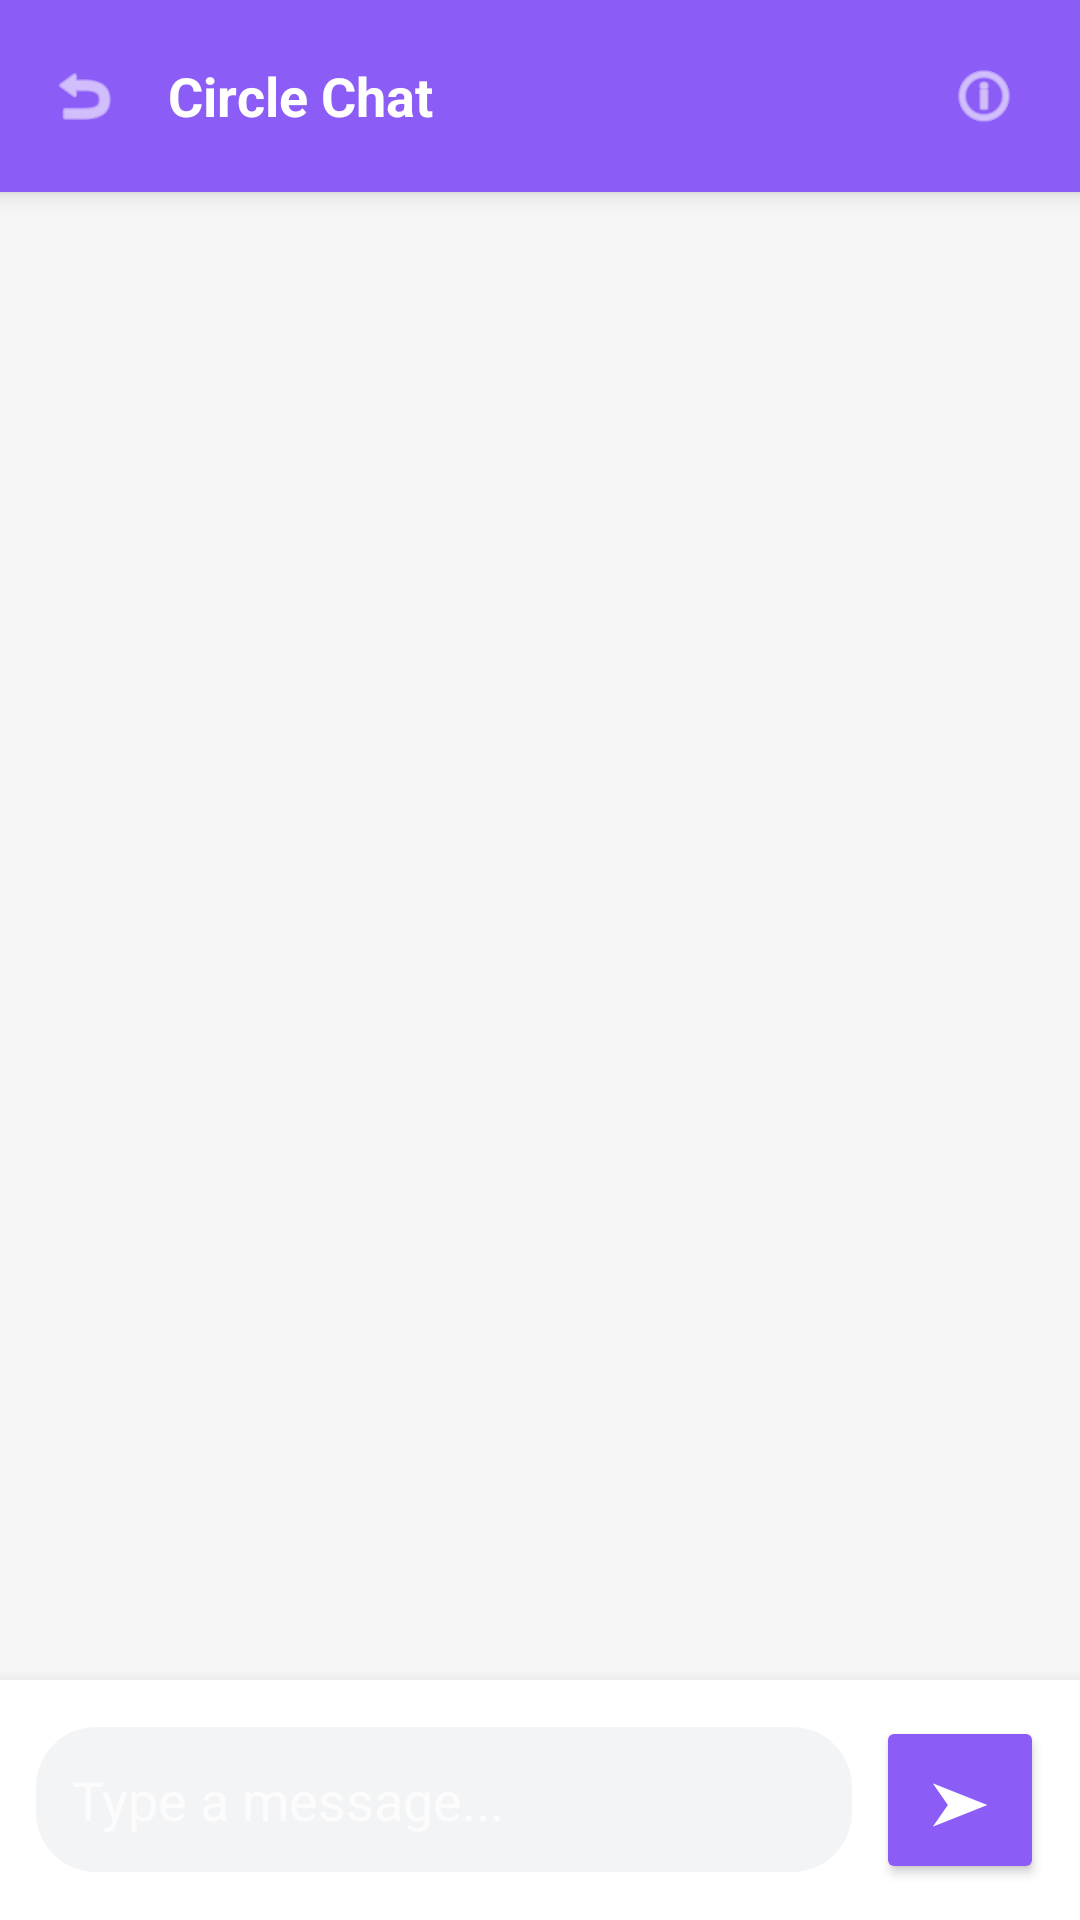

Locate icon controls on the screen. Image size 1080 × 1920, boxes as (x1, y1, x2, y2).
info details: (958, 70, 1010, 122)
revert: (59, 73, 111, 120)
